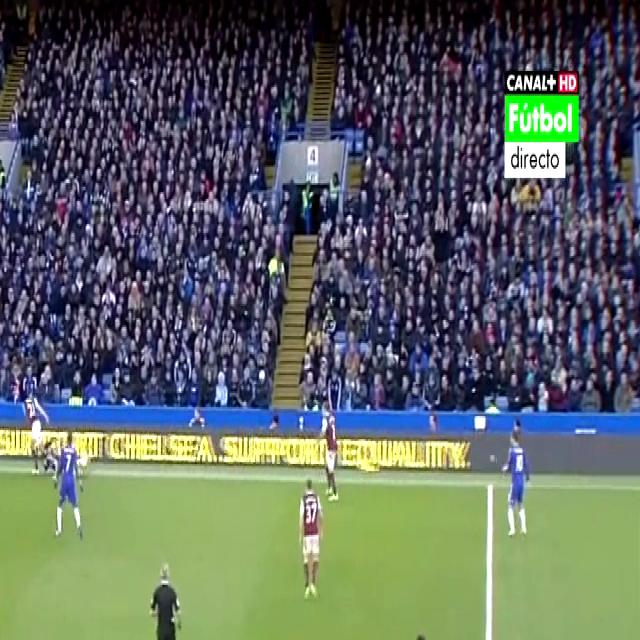referee: (142, 554, 187, 640)
soccer-player: (46, 427, 94, 547), (496, 416, 535, 543), (296, 474, 332, 608), (24, 379, 56, 477), (319, 397, 347, 504), (382, 618, 441, 640)
